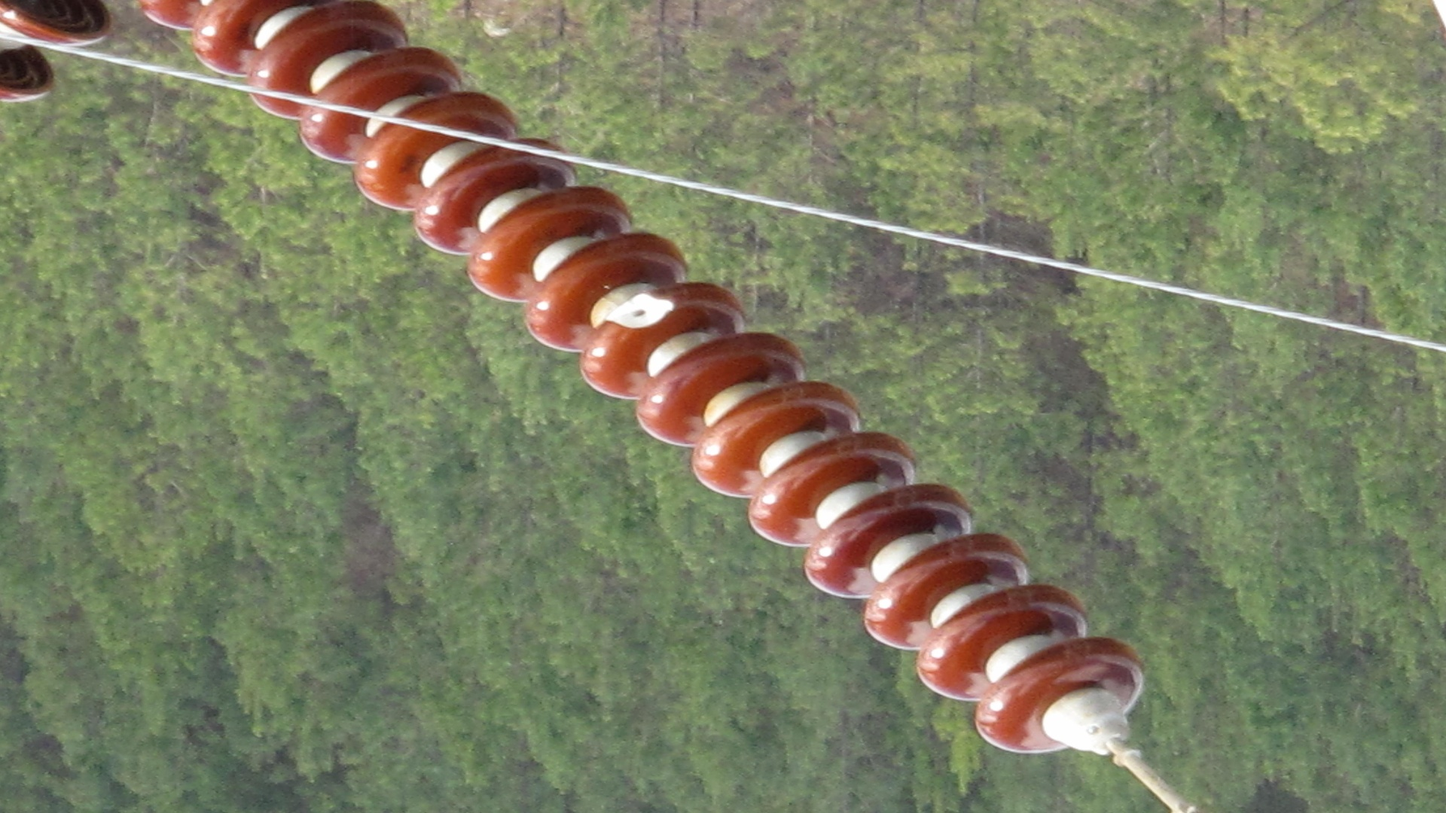insulator: (133, 1, 1154, 760), (1, 1, 118, 112)
insulator_breakage: (593, 289, 681, 337)
